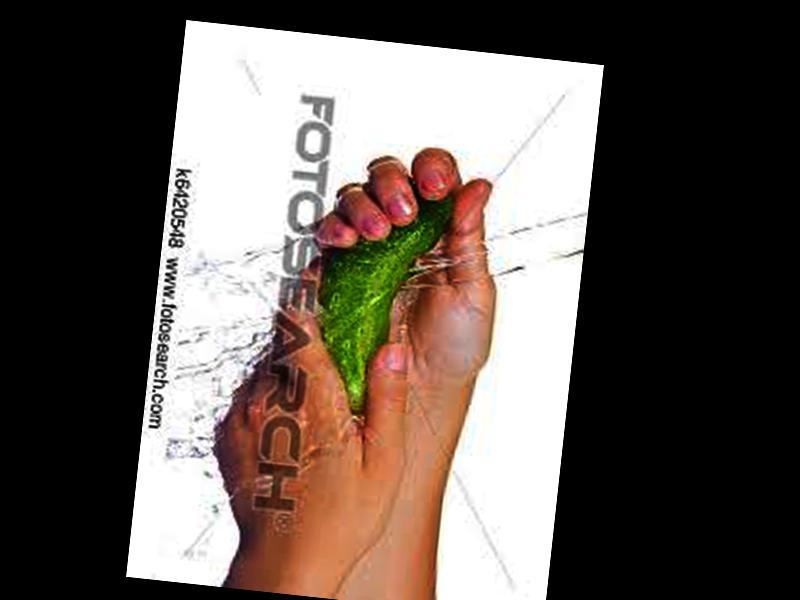Cucumber: (301, 179, 455, 428)
